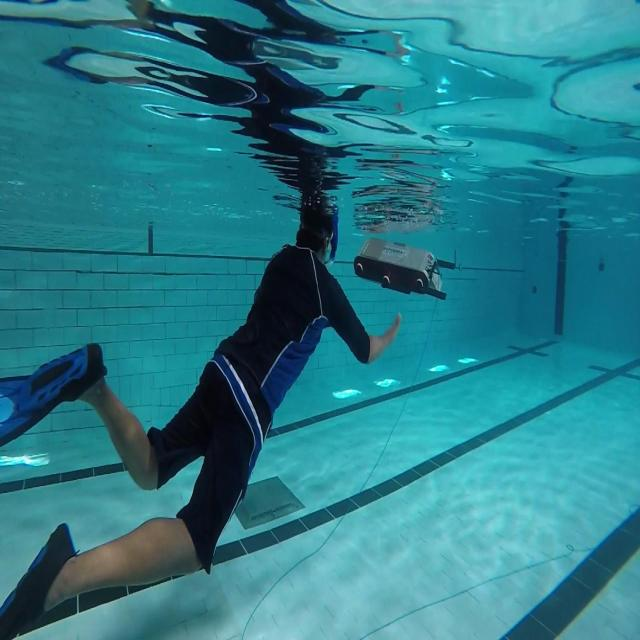human: (0, 186, 402, 637)
